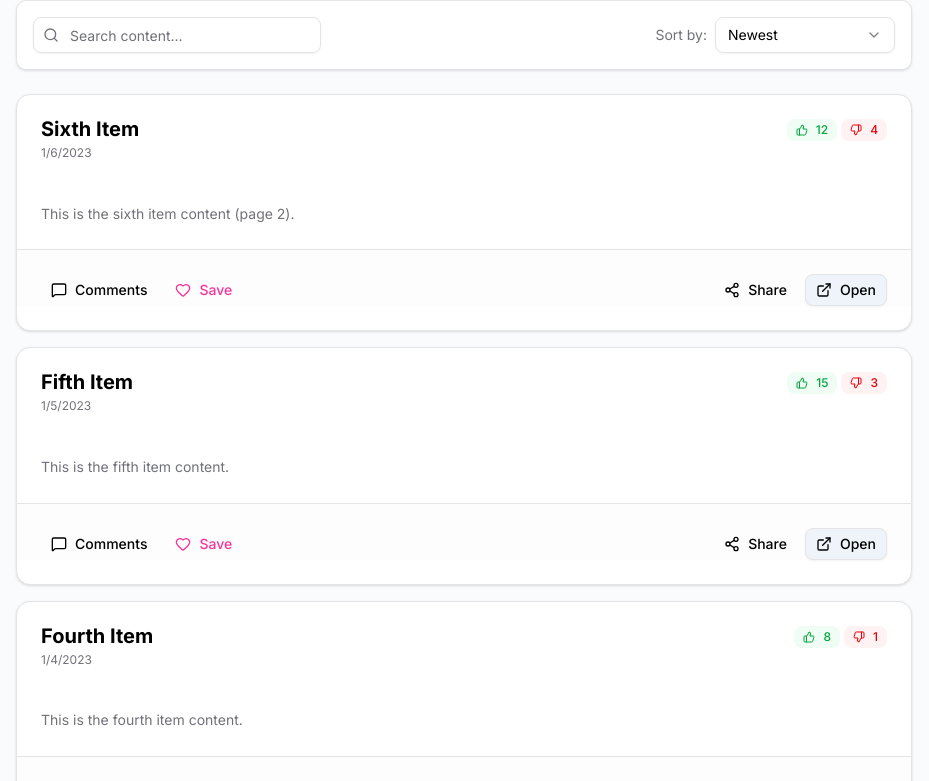
Test: ContentList Component › handles filtering
In the field with placeholder "Search content...": (177, 35) [33,17,321,53], type "Second"
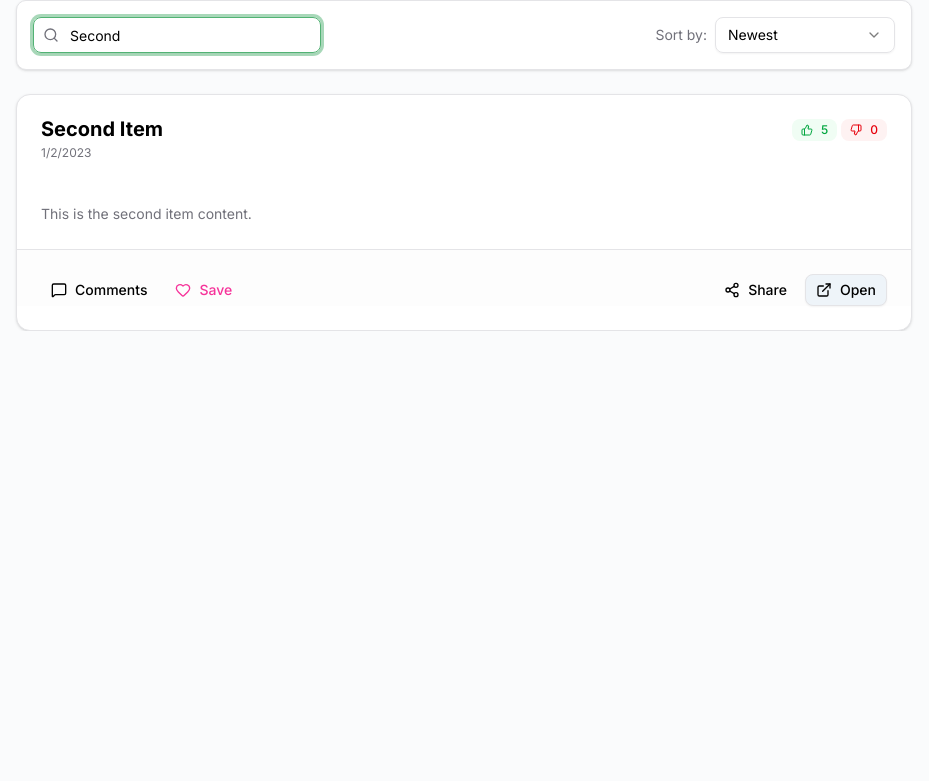
Expected: the link "Second Item" is shown, [41,117,163,141]
Now the link "Sixth Item" is gone
